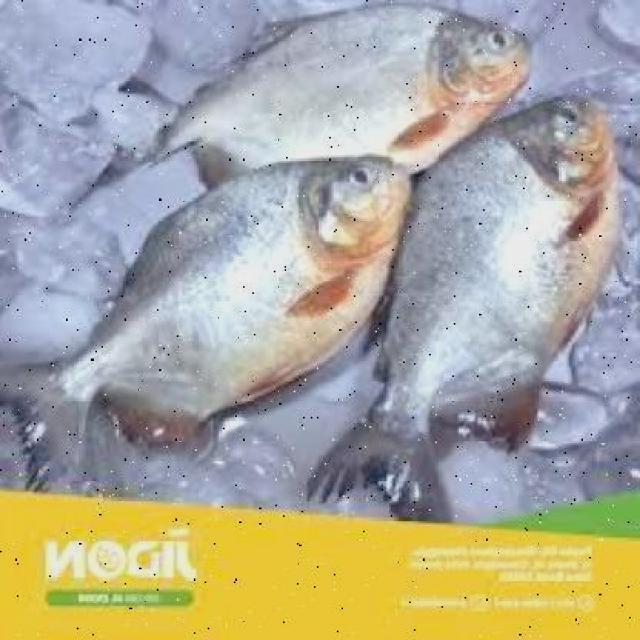ikan-pacu: (318, 94, 624, 506), (40, 159, 409, 447), (144, 2, 536, 166)
